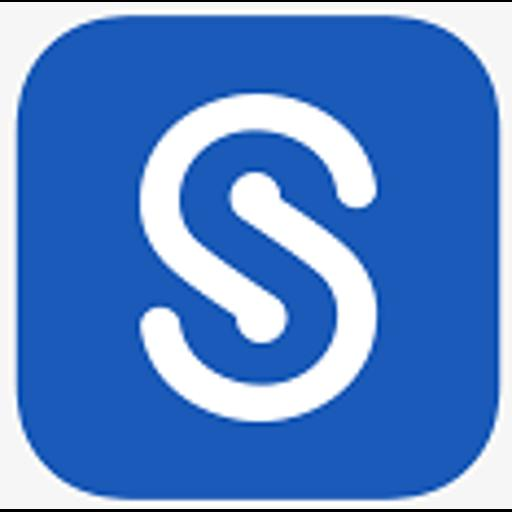Citrix ShareFile: (0, 2, 512, 509)
